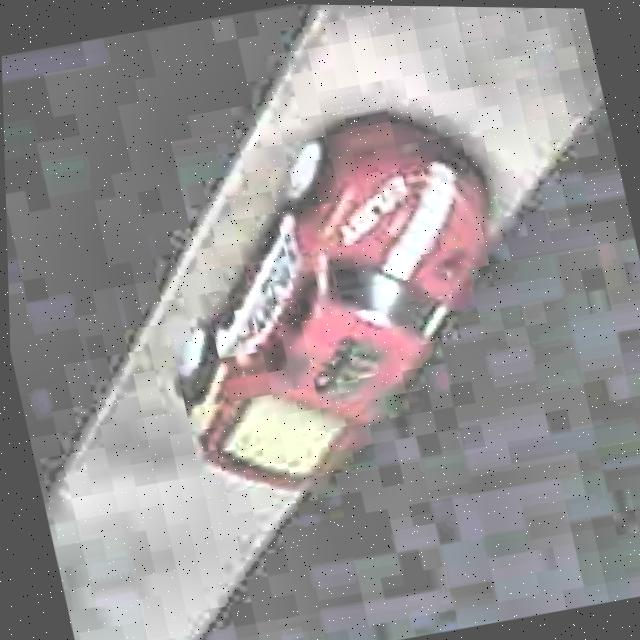car: (118, 85, 550, 518)
